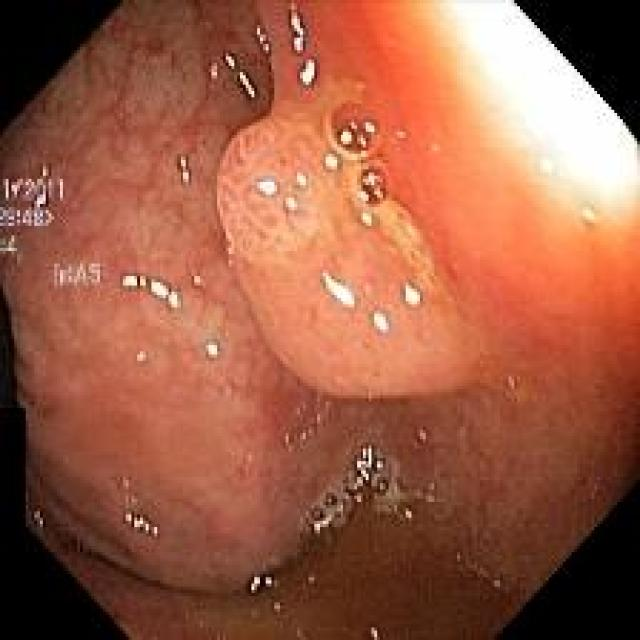Polyps: (218, 86, 485, 400)
